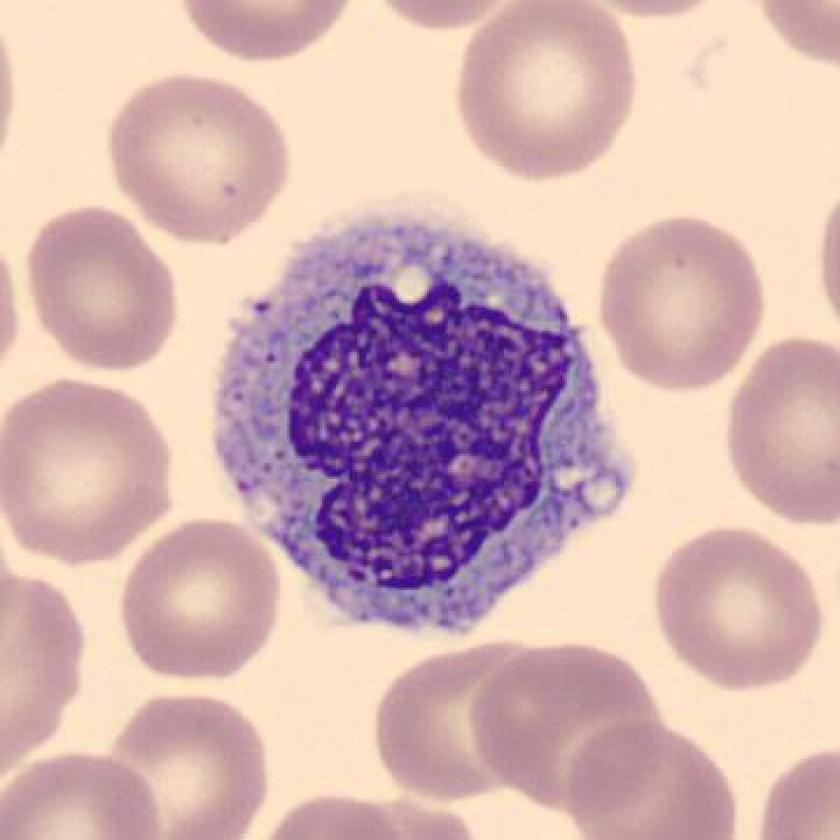monocyte: (190, 193, 657, 649)
